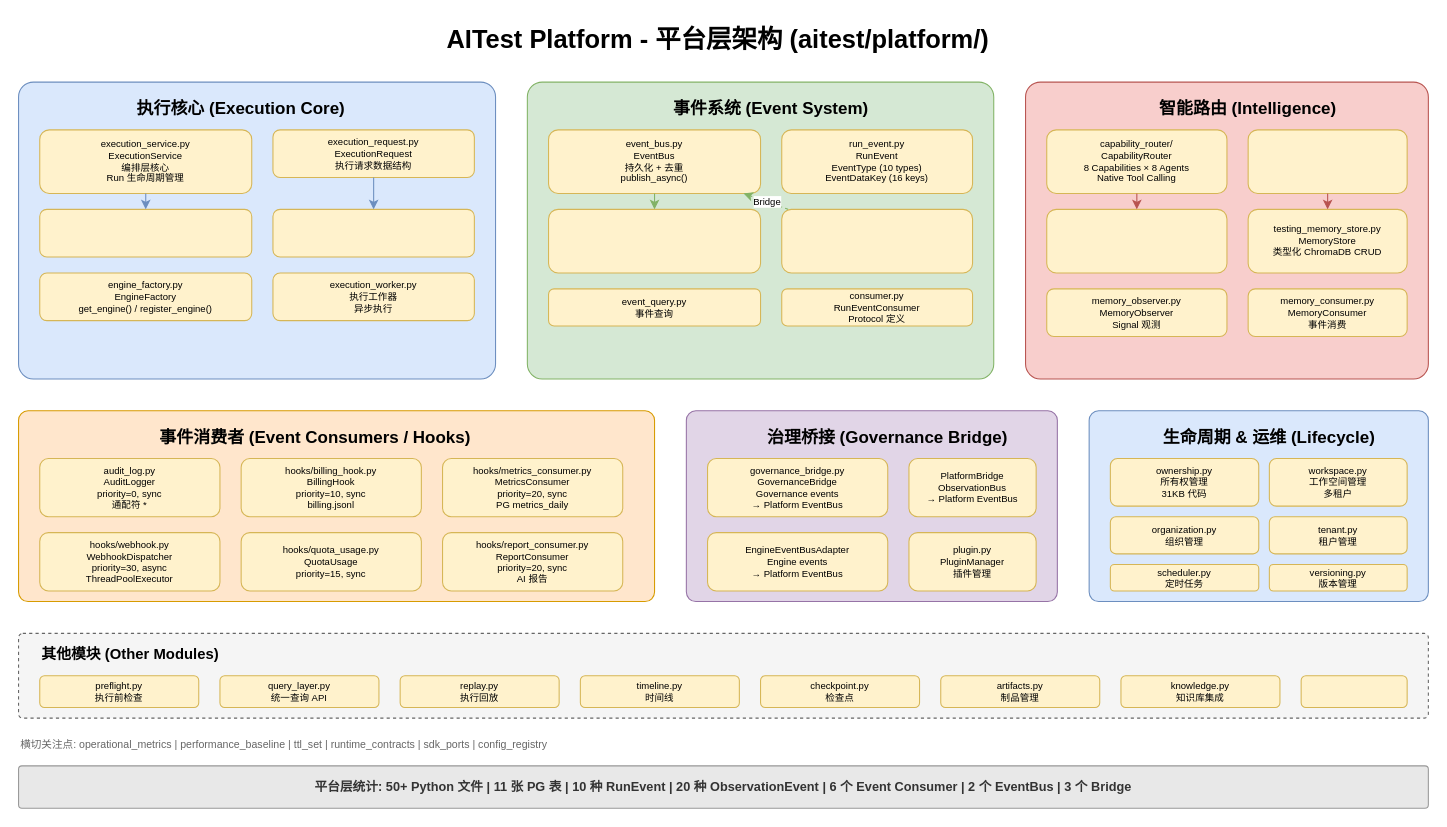
The diagram is 1447 pixels wide and 827 high, and some of its shapes have lost their labels. The centre of each missing label's shape, as x and y in pixels:
"complexity/ Complexity 18 因子评分 3 档 SOP 路由" belongs at point (1327, 161).
"event_replay.py 事件重放 PG 去重 崩溃恢复" belongs at point (654, 240).
"observation_bus.py ObservationBus Agent 内部观测 20 种事件类型" belongs at point (877, 240).
"run.py Run 执行记录数据结构" belongs at point (145, 232).
"run_store.py RunStore PG 持久化 (11张表)" belongs at point (373, 232).
"testing_memory.py TestingMemory 8 种 Memory 类型 MemoryLifecycle" belongs at point (1136, 240).
"ui_projection.py UI 投影" belongs at point (1353, 691).
